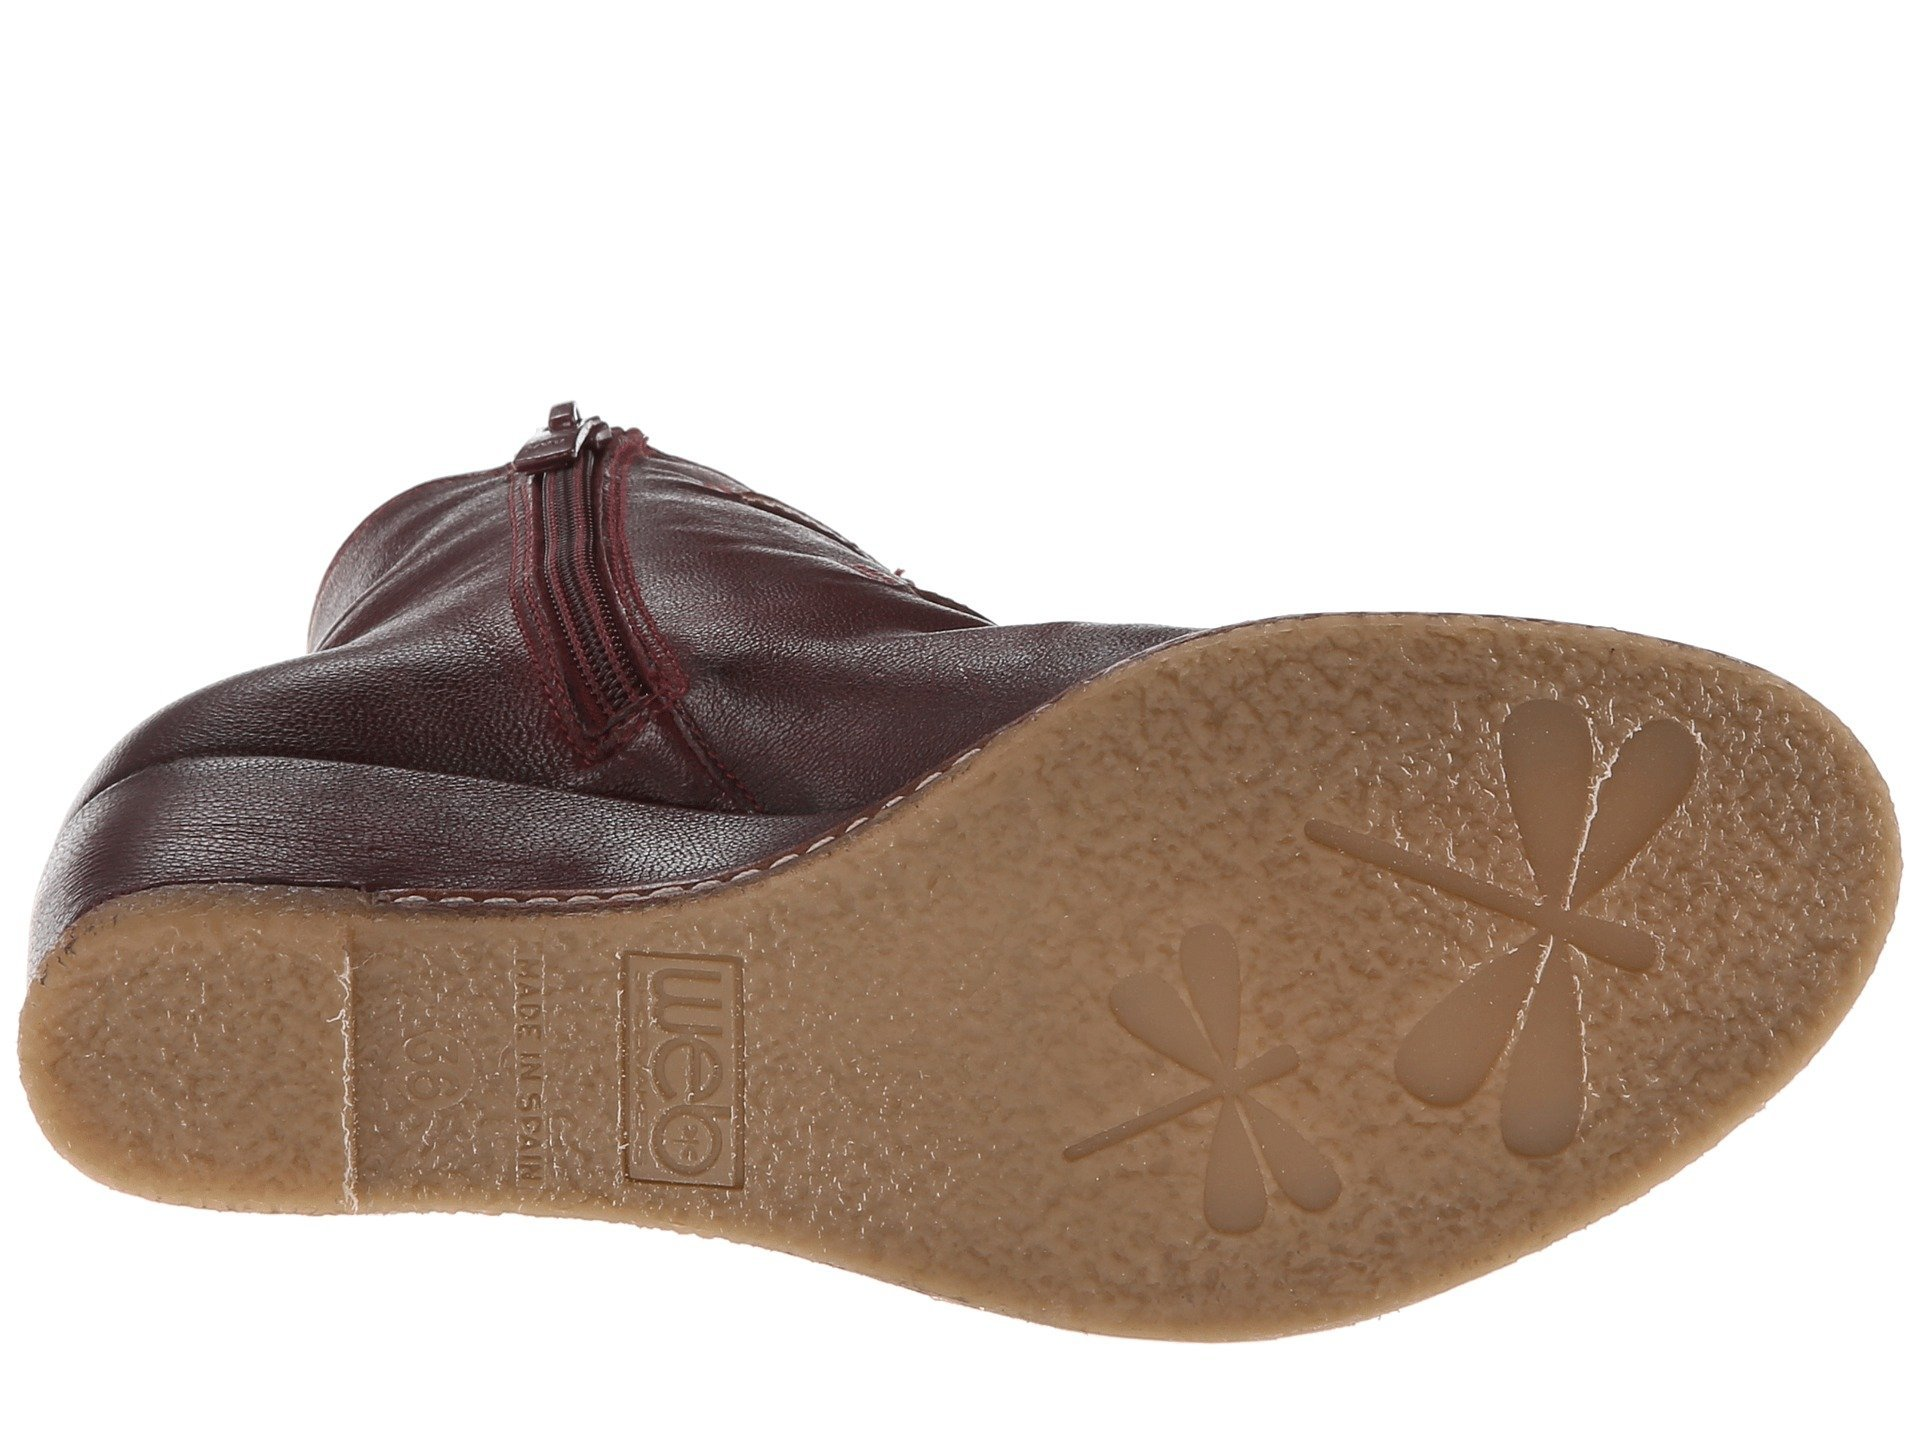bowtie: (1279, 673, 1742, 1162), (1033, 898, 1377, 1237)
circle: (386, 938, 582, 1199), (599, 941, 776, 1212)
line: (1279, 673, 1742, 1162), (1033, 898, 1377, 1237)
quad: (386, 938, 582, 1199), (599, 941, 776, 1212)
star: (1279, 673, 1742, 1162), (1033, 898, 1377, 1237)
text: (386, 938, 582, 1199), (599, 941, 776, 1212)
